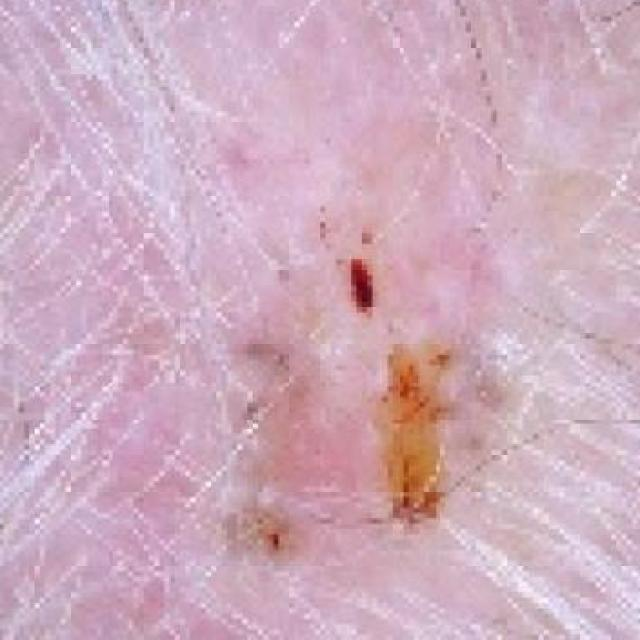BCC: (216, 166, 568, 580)
